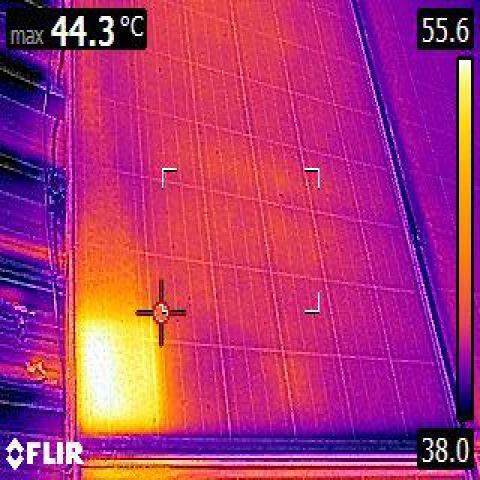fault: (78, 336, 154, 426)
